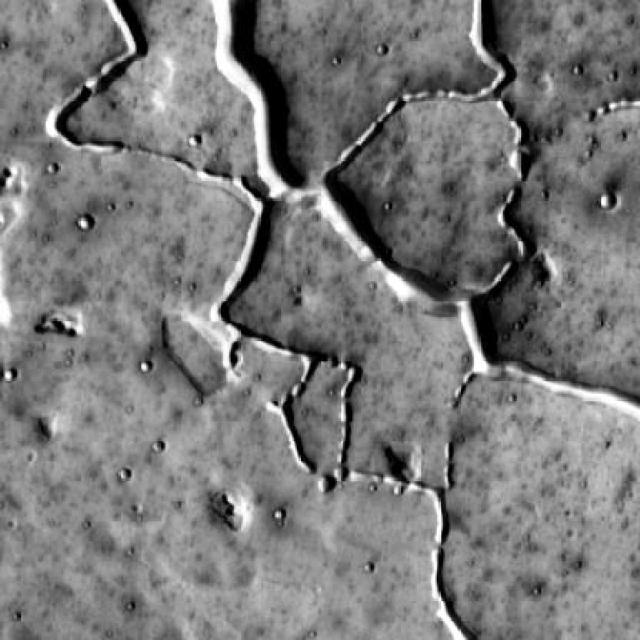crater: (598, 192, 617, 210), (634, 186, 640, 206)
